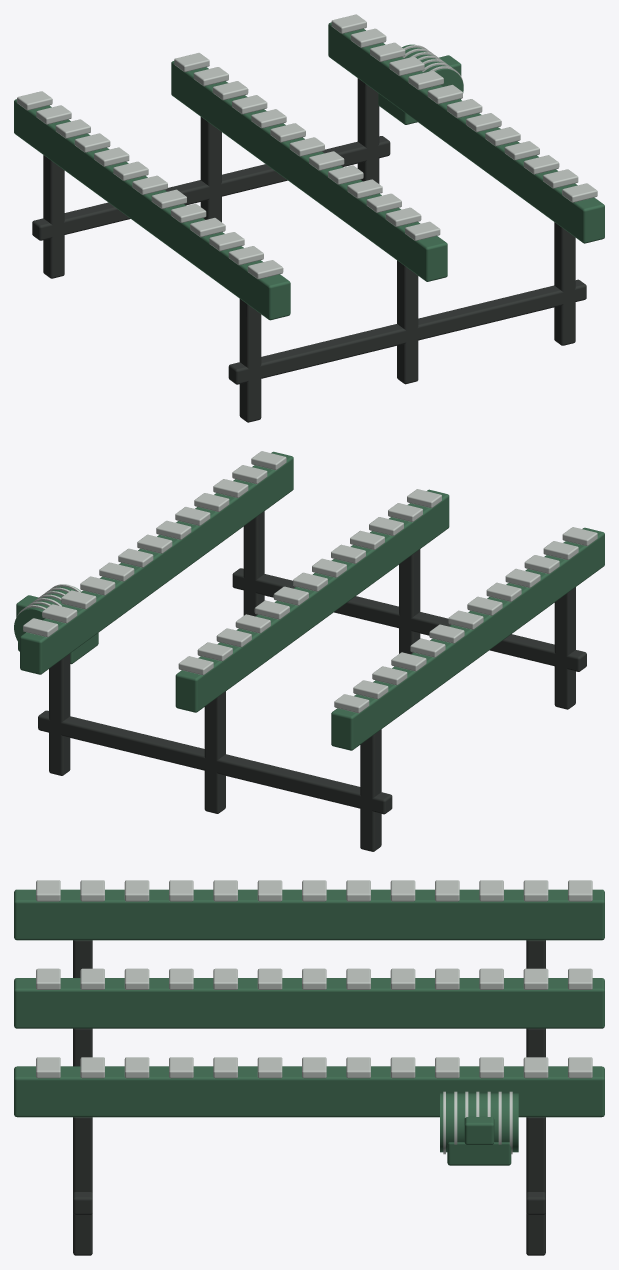
The model's file is sawmill-and-timber-yard-log-loading-deck-b0027653__31158.glb.
3 renders of one model, top to bottom at view 1: azimuth 30°, elevation 25°; view 2: azimuth 150°, elevation 25°; view 3: azimuth 270°, elevation 25°, orthographic. The views are drawn at different scales.
Parts seen in each view (by area): view 1: log-loading-deck; view 2: log-loading-deck; view 3: log-loading-deck.
Part boxes in pixels (left/top/right/bottom): log-loading-deck: left=14, top=14, right=604, bottom=422; log-loading-deck: left=14, top=451, right=604, bottom=851; log-loading-deck: left=14, top=880, right=604, bottom=1255.
Bounding box in the file's own units: 2.14 × 0.845 × 2.4.
